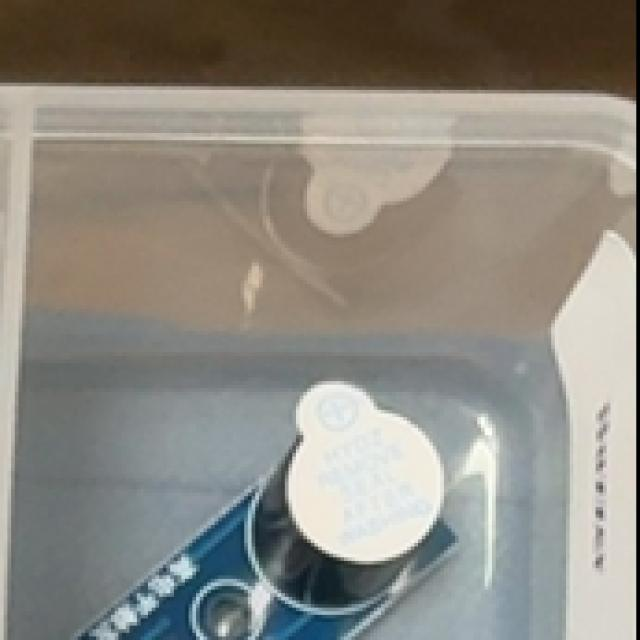Buzzer: (44, 376, 454, 640)
